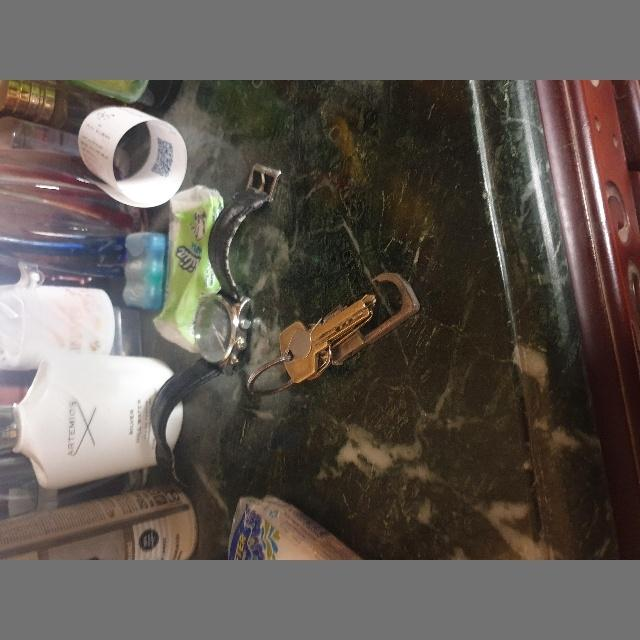Keys: (213, 262, 397, 401)
